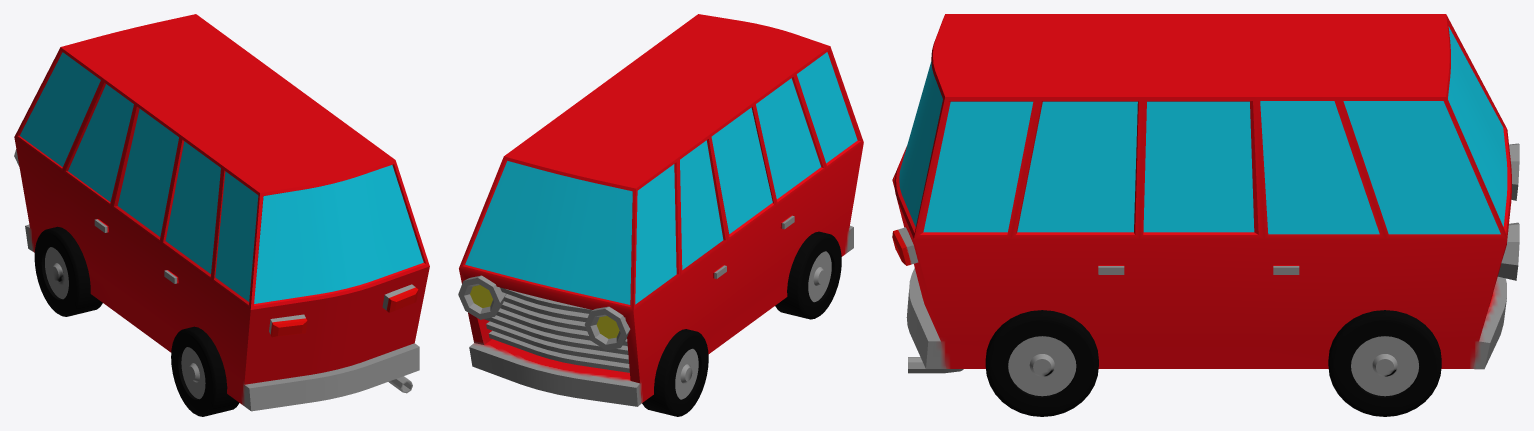
Rendered from red_car.fbx.
3 views of the same model, side by side, from view 1: azimuth 30°, elevation 25°; view 2: azimuth 150°, elevation 25°; view 3: azimuth 270°, elevation 25° (orthographic). The views are drawn at different scales.
Parts seen in each view (by area): view 1: car.003, Cylinder.006, Cylinder.007, Cube.001; view 2: car.003, Cube.129, Cylinder.006, Cylinder.007, Circle.002; view 3: car.003, Cylinder.001, Cylinder.002, Circle.002, Cube.001.
Part boxes in pixels (x1,y1,x2,y2): car.003: (14,14,429,411); Cylinder.006: (34,226,102,316); Cylinder.007: (171,326,239,416); Cube.001: (269,284,418,337); car.003: (459,14,863,406); Cube.129: (484,287,629,372); Cylinder.006: (642,329,708,416); Cylinder.007: (775,231,841,319); Circle.002: (458,275,630,350); car.003: (894,14,1511,369); Cylinder.001: (1328,310,1441,416); Cylinder.002: (985,310,1098,416); Circle.002: (1498,143,1519,280); Cube.001: (892,170,918,265).
Bounding box in the file's own units: 74.07 × 88.5 × 165.
Materials: 1 (1 with a texture image).
